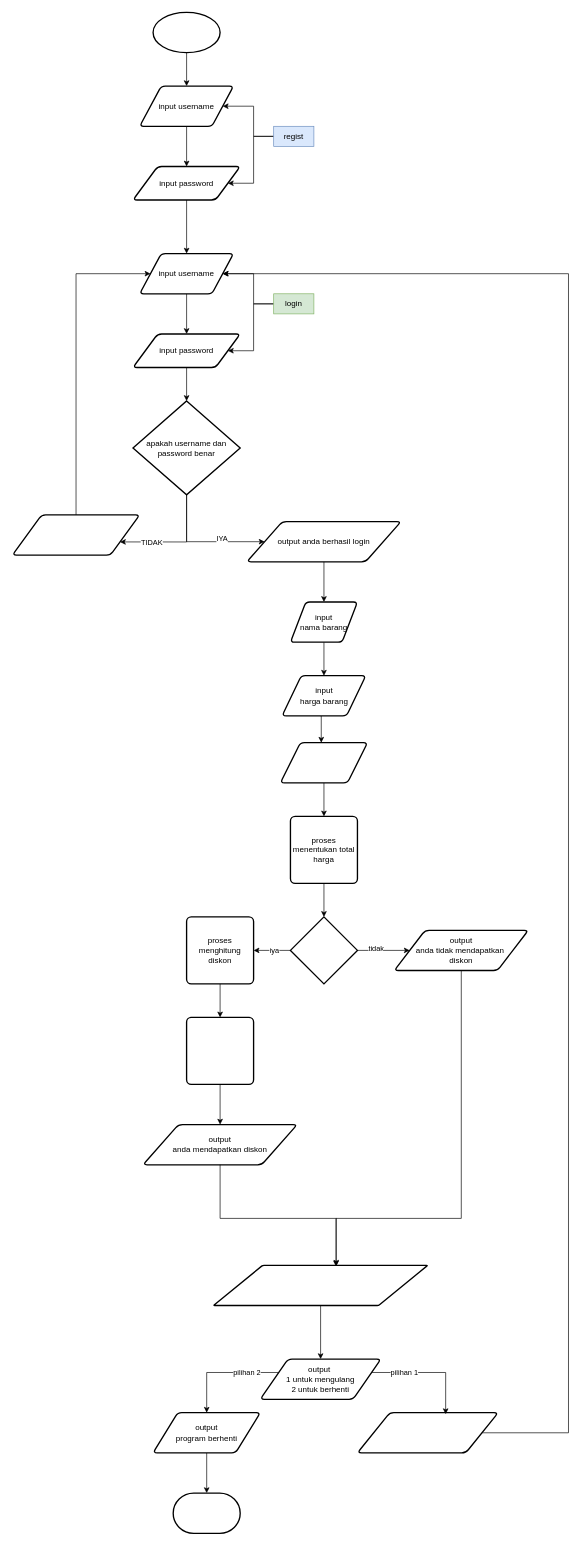
Image size: 586x1545. Some labels were removed from this diagram. The centre of each missing label's shape, as x and y in pixels:
apakah total harga >= 250000: the point at 323,950
input jumlah barang: the point at 323,762
mulai: the point at 186,32
output anda gagal login: the point at 75,534
output program diulang: the point at 427,1432
output silahkan pilih menu dibawah ini: the point at 320,1285
proses menghitung total harga setelah diskon: the point at 220,1050
selesai: the point at 206,1513
